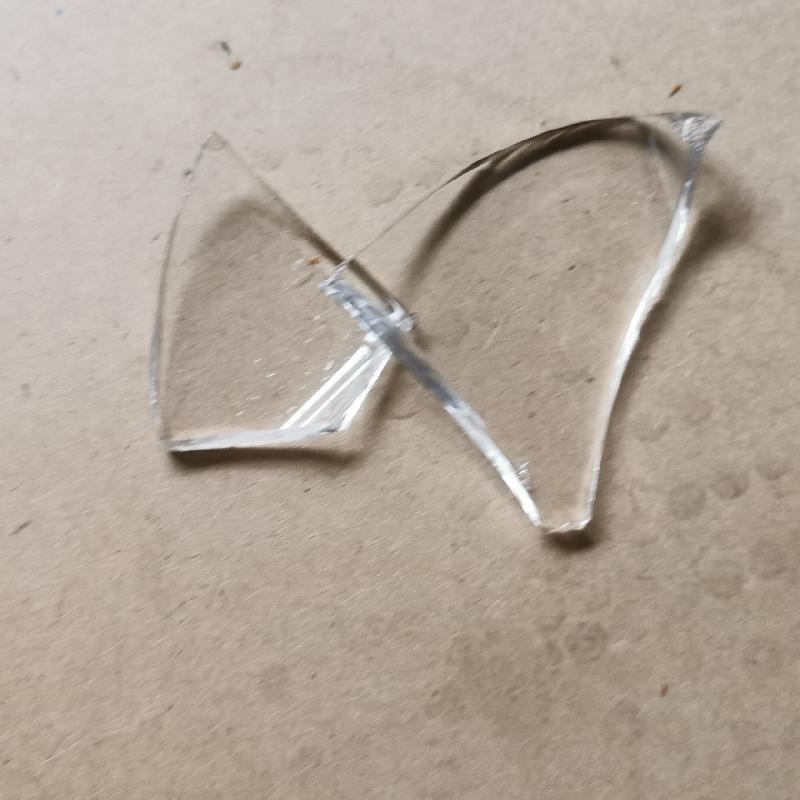glass: (153, 108, 734, 560)
